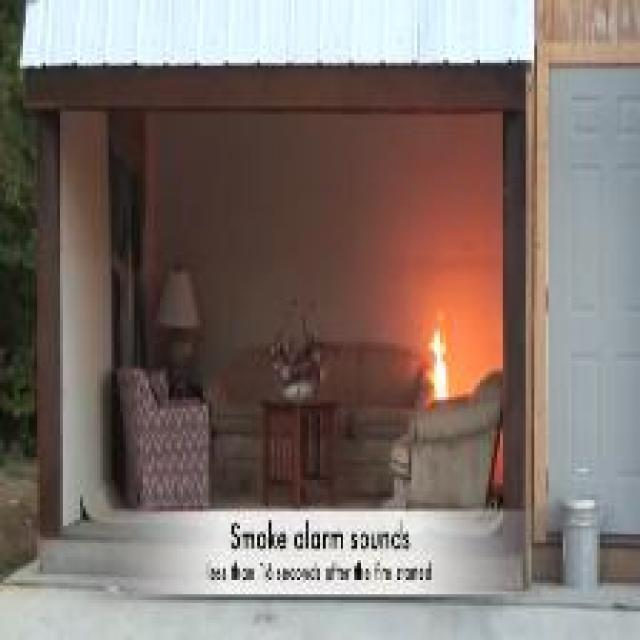Fire: (430, 332, 447, 397)
